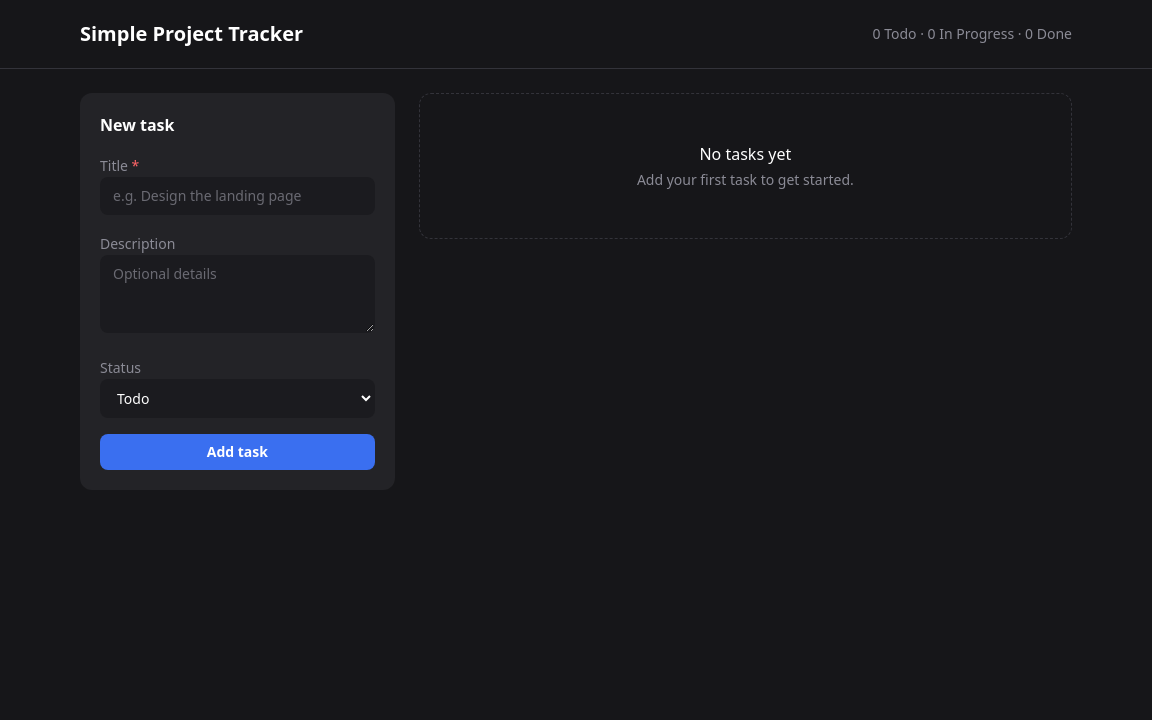
creating a task › shows validation errors returned by the API
Expected: the text "No tasks yet" is shown, [700,143,791,165]
Type "Too long" into the field labelled "Title *".
click(237, 196); type("Too long")  # box [100,177,375,215]
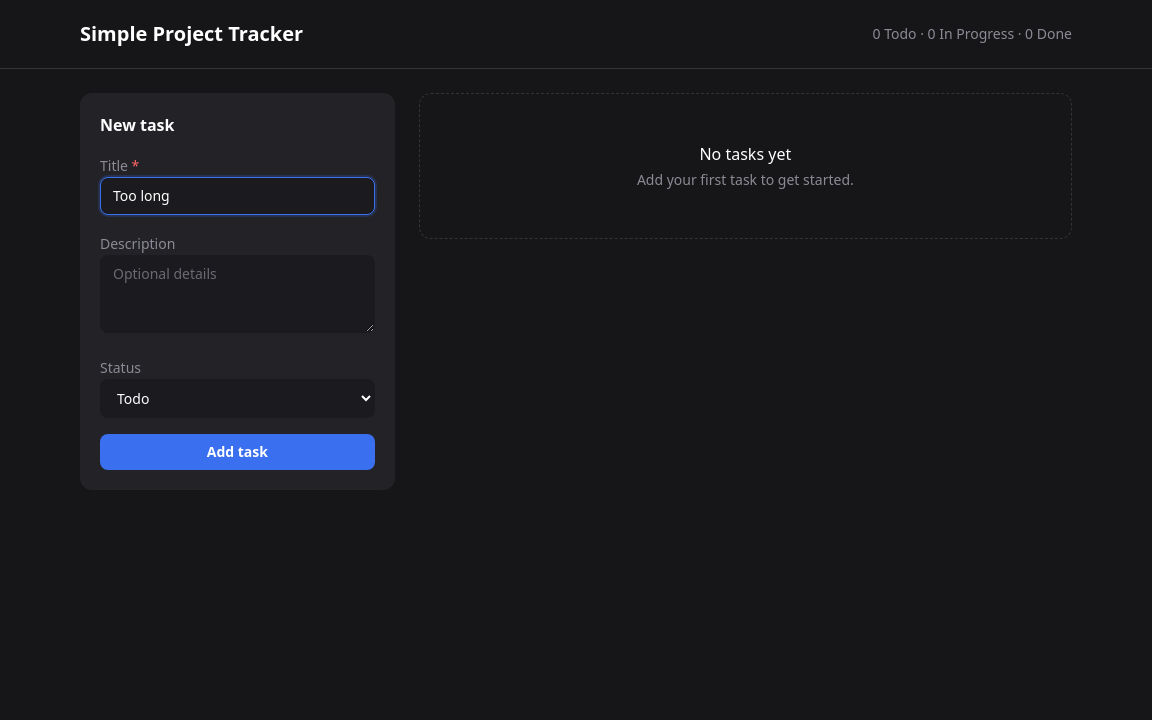
Click the button "Add task".
click(237, 452)  # box [100,434,375,470]
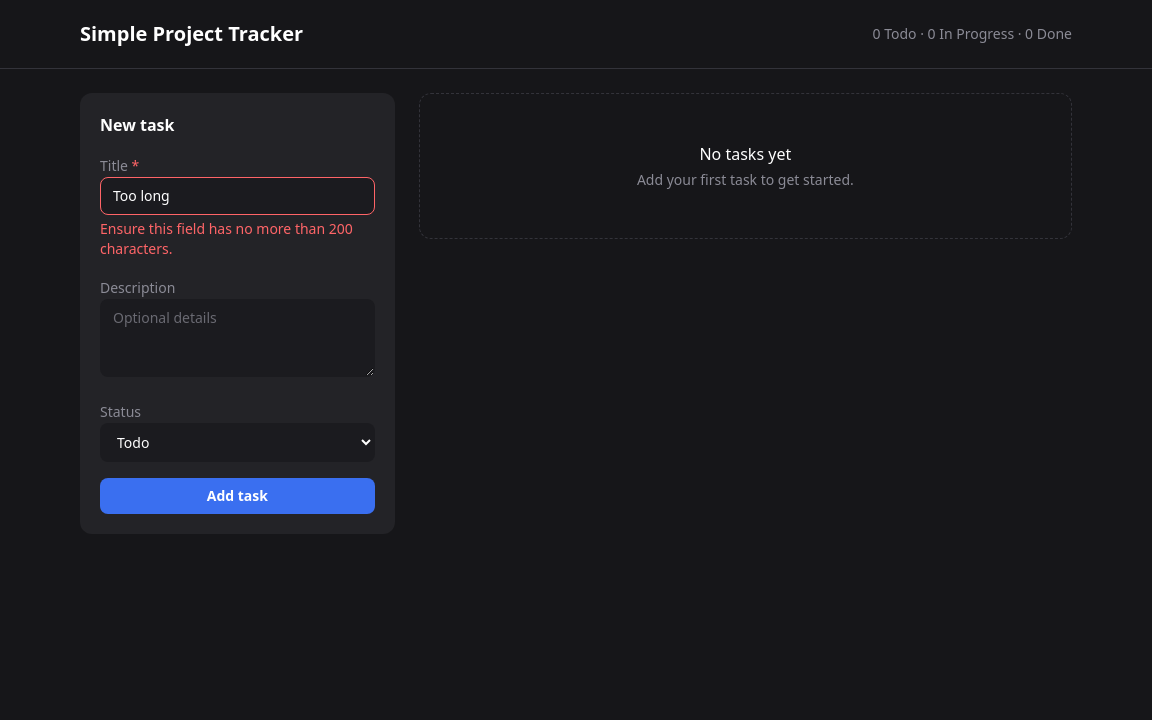
Expected: the text "Ensure this field has no more than 200 characters." is shown, [100,219,375,259]
